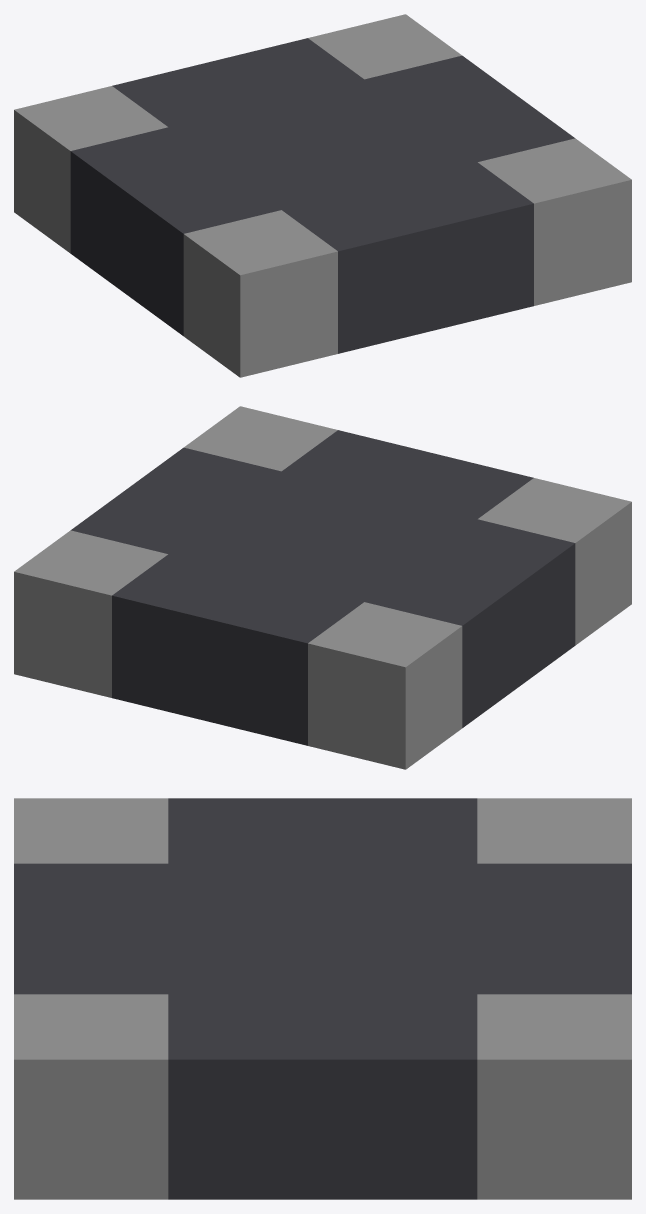
File: road_cross.glb
The picture shows the model from 3 angles, top to bottom: view 1: azimuth 30°, elevation 25°; view 2: azimuth 150°, elevation 25°; view 3: azimuth 270°, elevation 25°; orthographic projection. The views are drawn at different scales.
Parts seen in each view (by area): view 1: road_cross; view 2: road_cross; view 3: road_cross.
Part boxes in pixels (x1,y1,x2,y2): road_cross: (14, 14, 631, 377); road_cross: (14, 406, 631, 769); road_cross: (14, 798, 631, 1199).
Bounding box in the file's own units: 1 × 0.25 × 1.
Materials: 1 (1 with a texture image).
